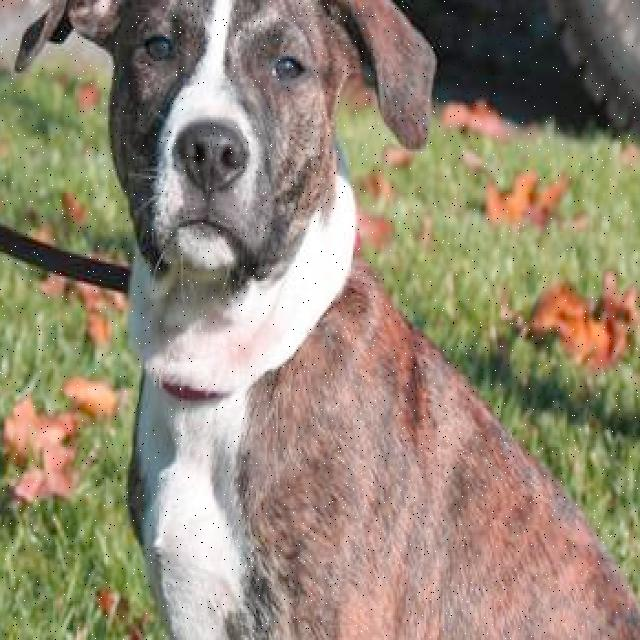Dog: (0, 0, 478, 325)
